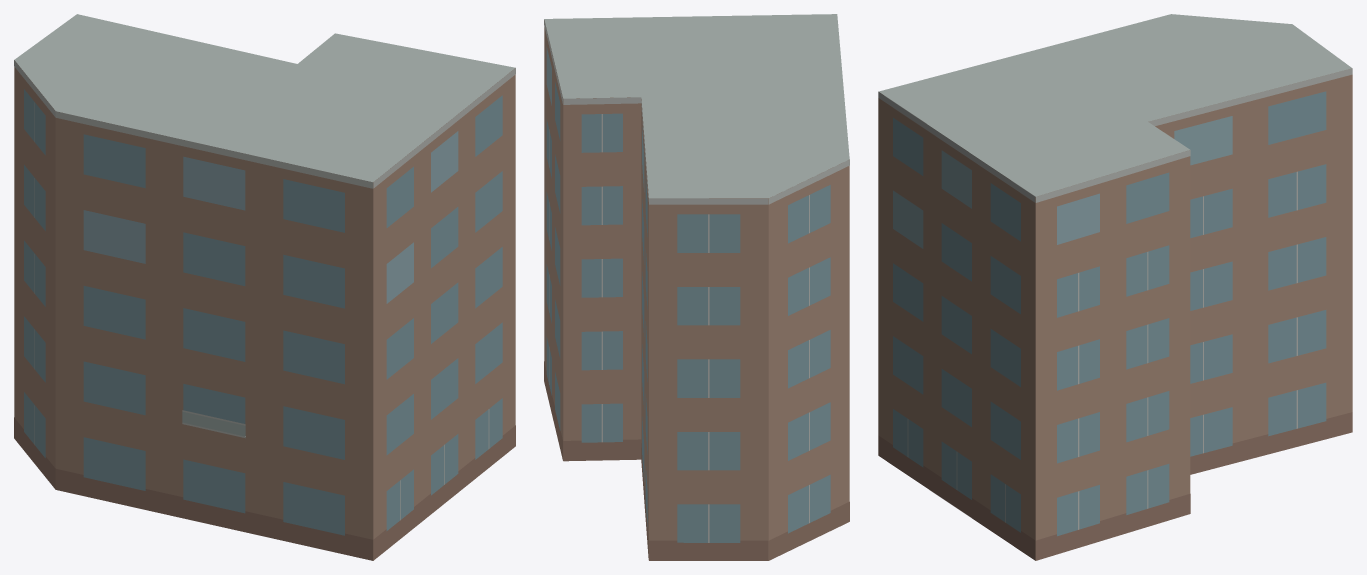
The model's file is survey-upis-32871745.glb.
3 views of the same model, side by side, from view 1: azimuth 30°, elevation 25°; view 2: azimuth 150°, elevation 25°; view 3: azimuth 270°, elevation 25° (orthographic). The views are drawn at different scales.
Visible parts, largest first — view 1: survey-upis-32871745.tmp; view 2: survey-upis-32871745.tmp; view 3: survey-upis-32871745.tmp.
Part boxes in pixels (<box>): survey-upis-32871745.tmp: <box>14,14,515,560</box>; survey-upis-32871745.tmp: <box>544,14,849,560</box>; survey-upis-32871745.tmp: <box>878,14,1352,560</box>.
Size of the model in its own units: 15.25 by 14.15 by 16.71.
